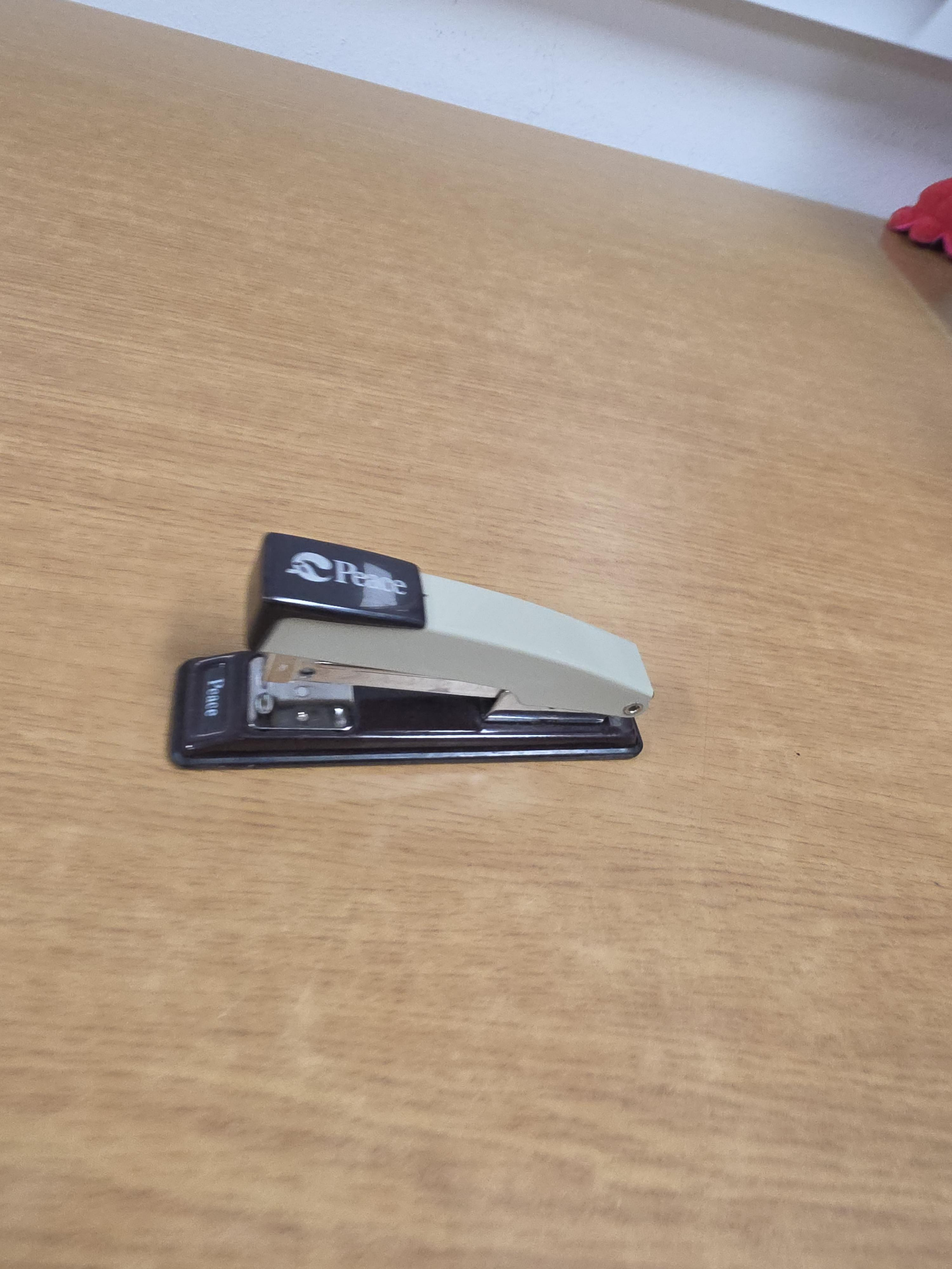stapler: (167, 533, 654, 771)
